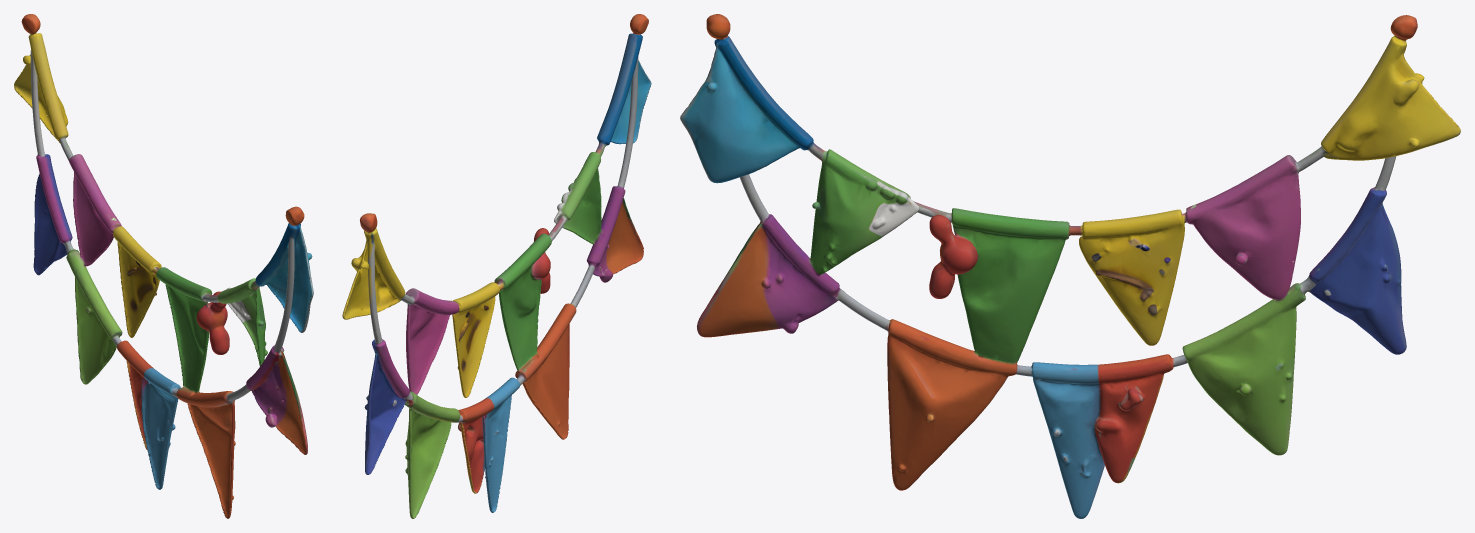
Rendered from plaza-pennant-string.glb.
3 renders of one model, left to right at view 1: azimuth 30°, elevation 25°; view 2: azimuth 150°, elevation 25°; view 3: azimuth 270°, elevation 25°, orthographic. The views are drawn at different scales.
Parts seen in each view (by area): view 1: tripo_node_5cb075e9-3fbe-4d31-b56a-f73d1d453883; view 2: tripo_node_5cb075e9-3fbe-4d31-b56a-f73d1d453883; view 3: tripo_node_5cb075e9-3fbe-4d31-b56a-f73d1d453883.
Part boxes in pixels (bbox=[...]): tripo_node_5cb075e9-3fbe-4d31-b56a-f73d1d453883: bbox=[14, 14, 313, 518]; tripo_node_5cb075e9-3fbe-4d31-b56a-f73d1d453883: bbox=[342, 14, 651, 518]; tripo_node_5cb075e9-3fbe-4d31-b56a-f73d1d453883: bbox=[680, 14, 1460, 518].
Bounding box in the file's own units: 0.2526 × 3 × 4.23.
1 material, 1 textured.
